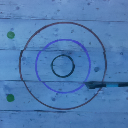Axe Tip: (85, 81, 94, 84)
